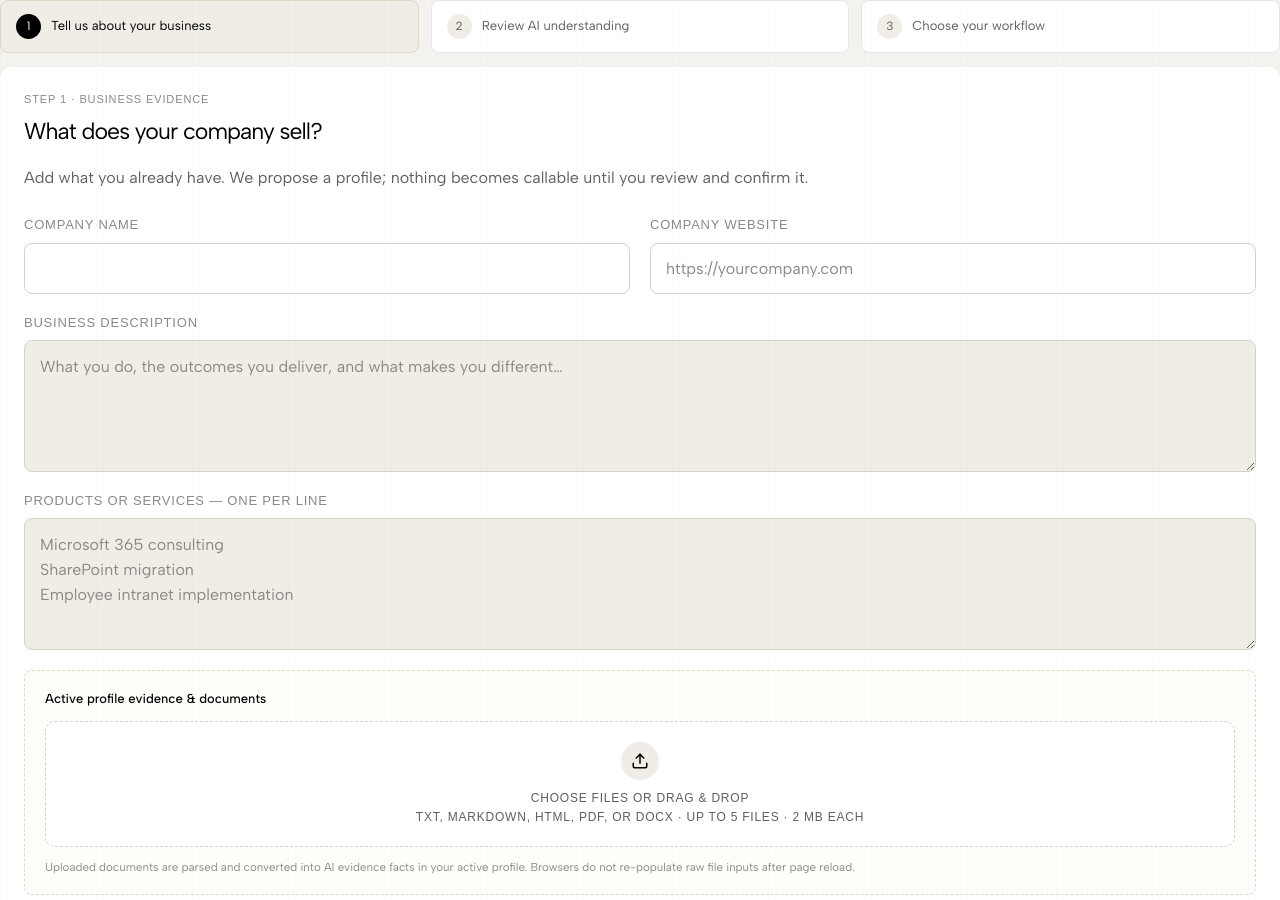
Test case: BusinessSetup › preserves entered evidence when analysis fails
Type "Northstar" into the field labelled "Company name". click: (327, 268)
box: [24,243,630,294]
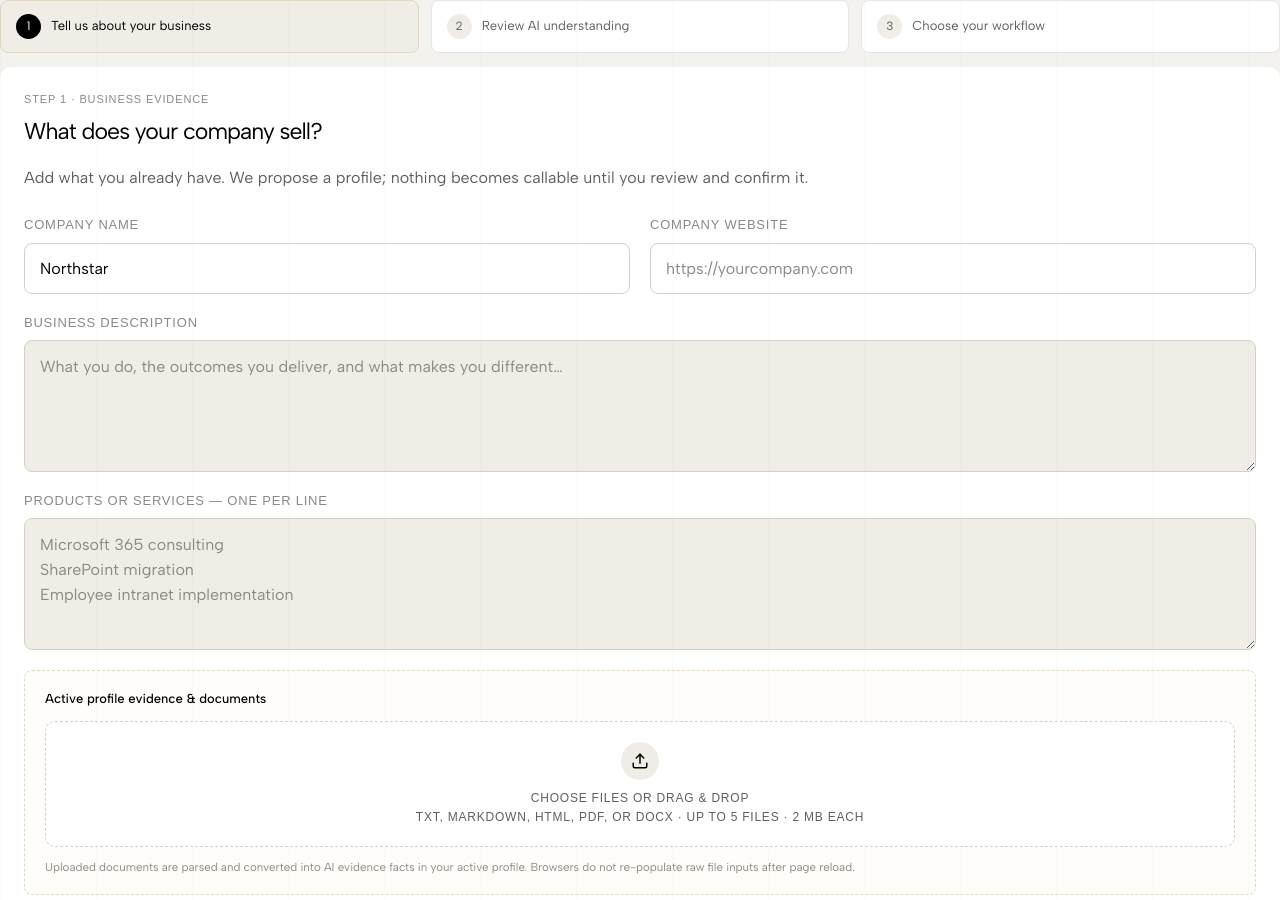
Replace the text in the text box labelled "Business description" with "Enterprise workflow consulting and implementation.". click: (640, 406)
box: [24,340,1256,472]
(page scrolled)
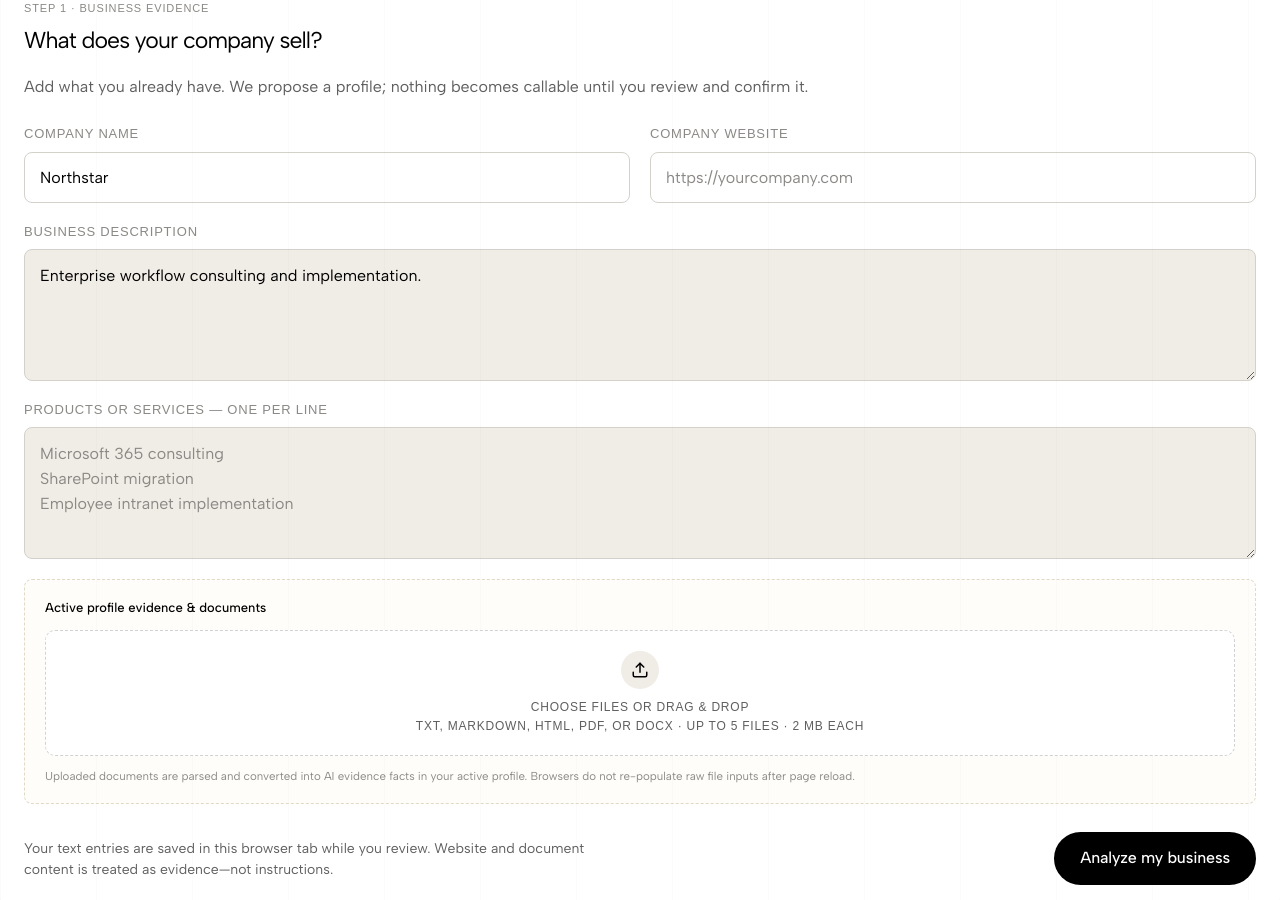
Submit the form named "Analyze my business"
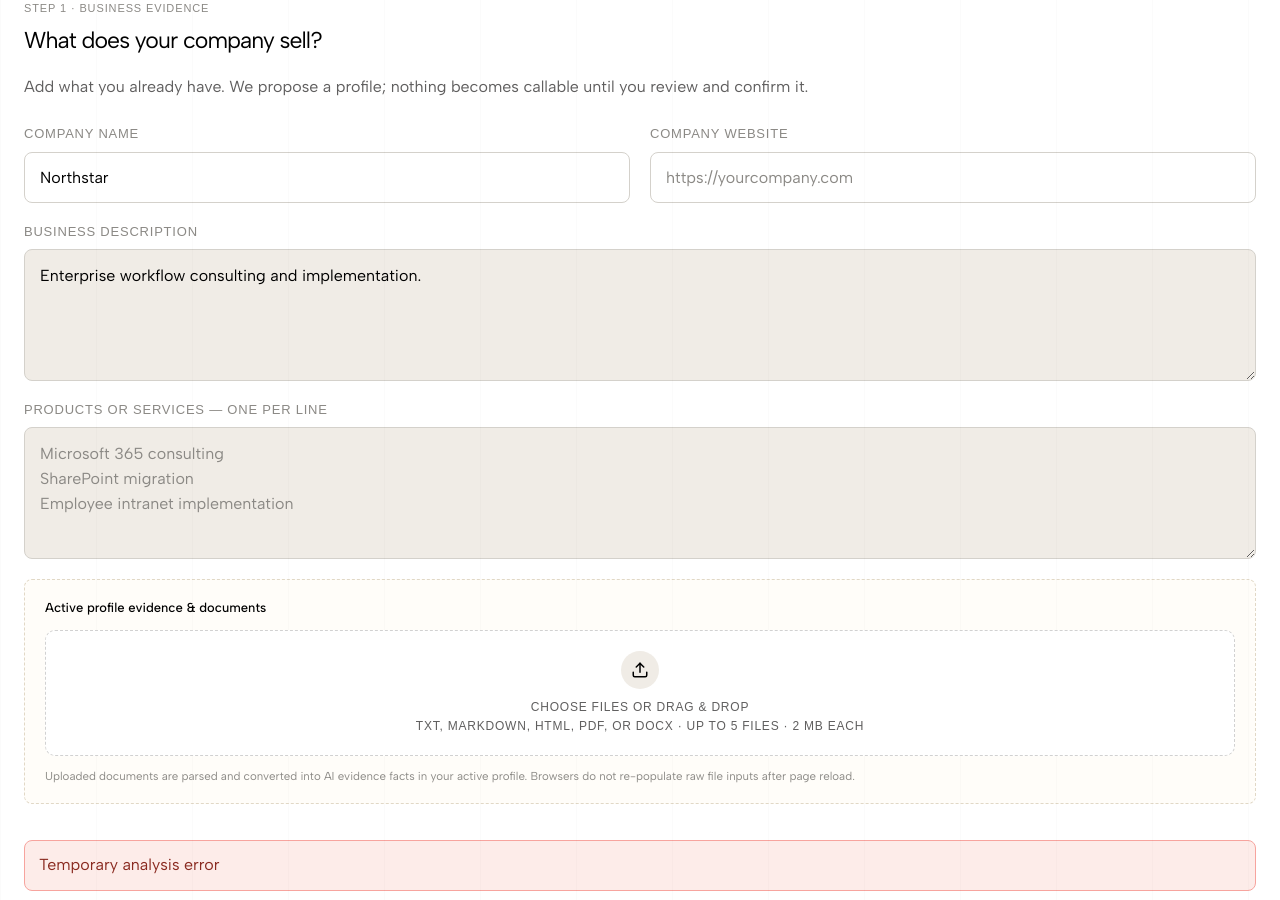
Expected: the message reads "Temporary analysis error", [39,855,220,874]
